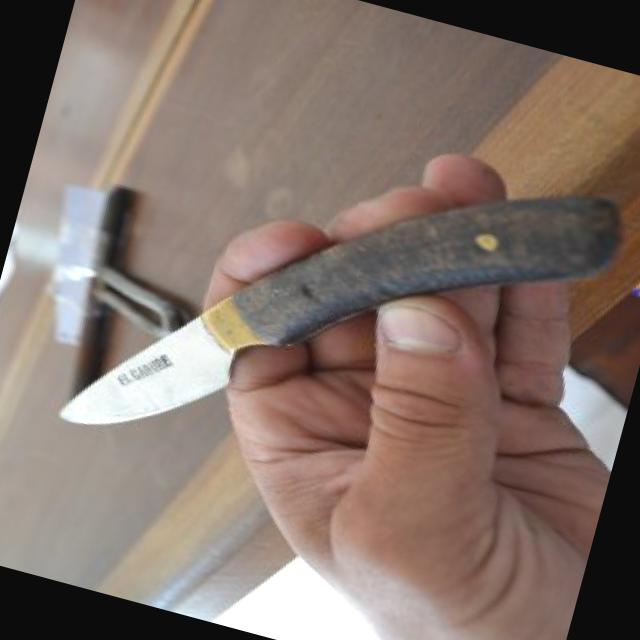knife: (41, 67, 632, 555)
